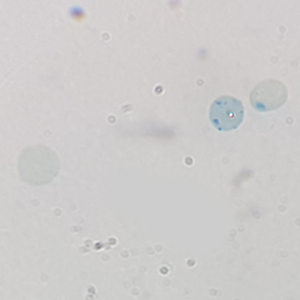aggregate reticulocyte: (208, 95, 246, 133)
erythrocyte: (15, 143, 61, 187), (249, 78, 289, 113)
